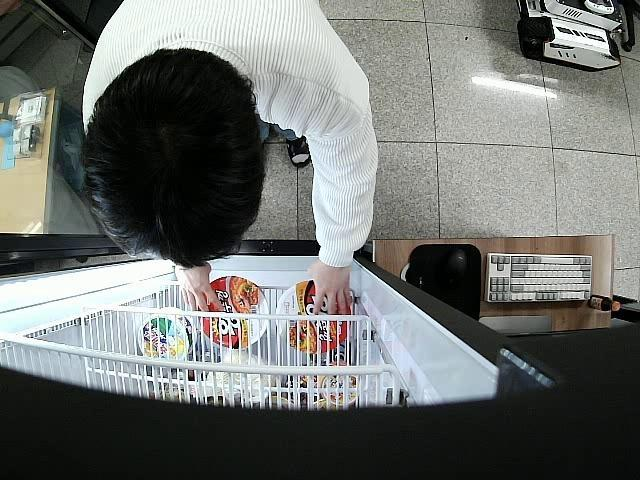10_wangTtukkeong: (276, 279, 352, 353), (197, 277, 269, 349)
